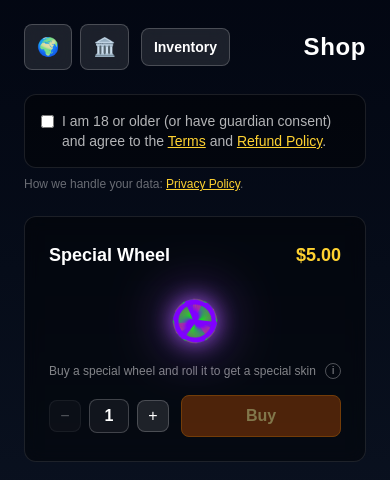
Test case: ShopPage › disables Buy until the terms checkbox is checked
The width and height of the screenshot is (390, 480).
Expected: the button "Buy" is disabled, [181,395,341,437]
Click the checkbox.
click(48, 122)  # box [41,115,54,128]
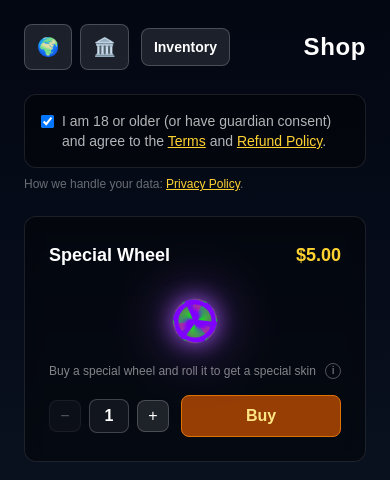
Expected: the button "Buy" is enabled, [181,395,341,437]
